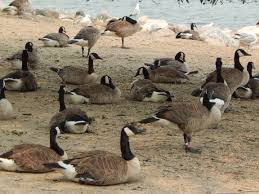goose: (131, 87, 223, 154), (53, 123, 147, 186), (1, 120, 68, 174), (203, 46, 253, 97), (50, 83, 92, 134), (45, 51, 105, 83), (202, 57, 232, 114), (70, 73, 122, 103), (131, 66, 171, 103), (98, 15, 141, 49), (1, 49, 34, 90), (65, 25, 106, 56), (147, 57, 189, 82), (5, 41, 37, 69), (36, 24, 72, 47), (151, 50, 189, 70), (174, 22, 199, 40), (246, 61, 259, 95), (1, 77, 11, 119)
